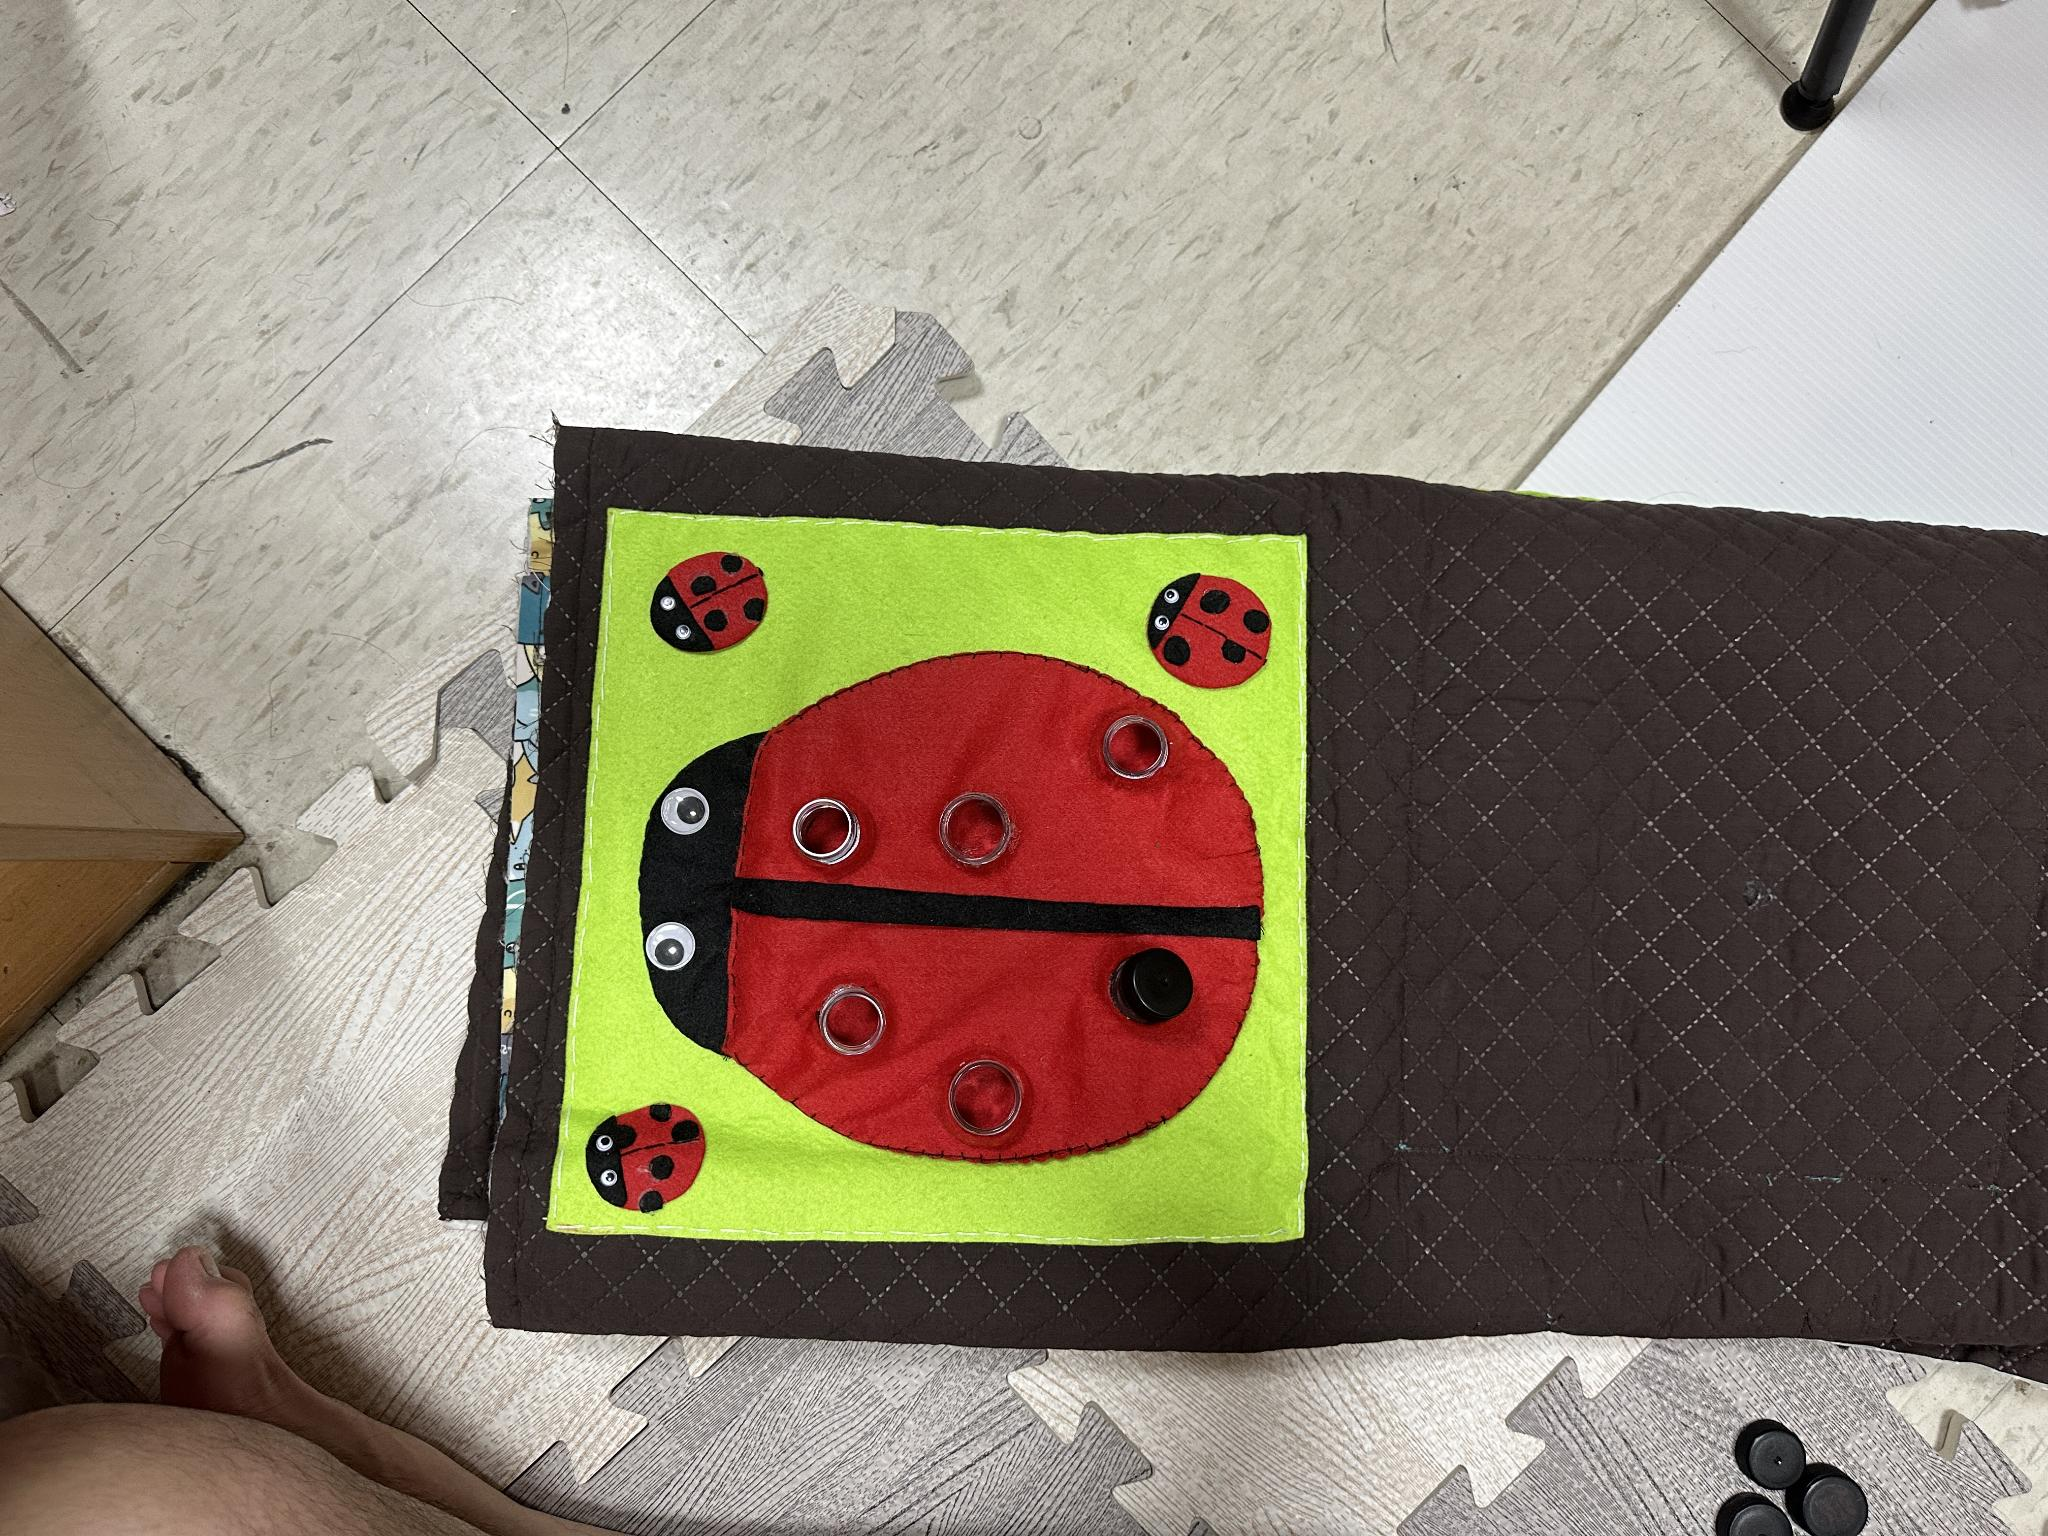cap_ng: (1101, 936, 1209, 1047)
